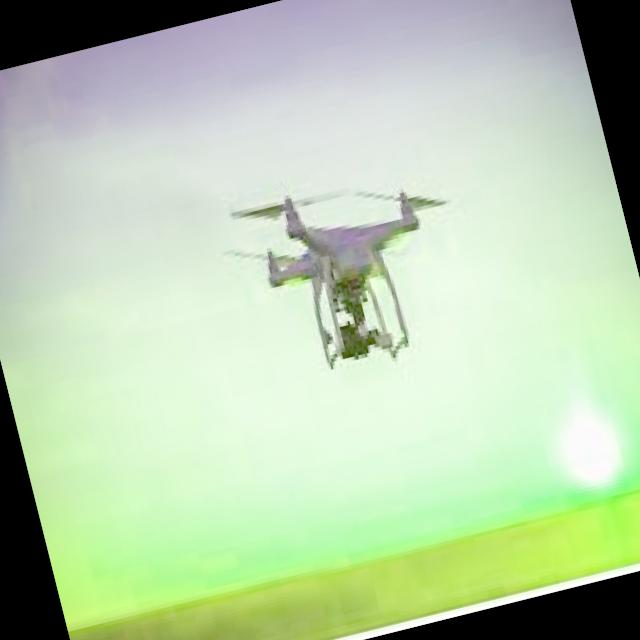drone: (204, 140, 480, 407)
